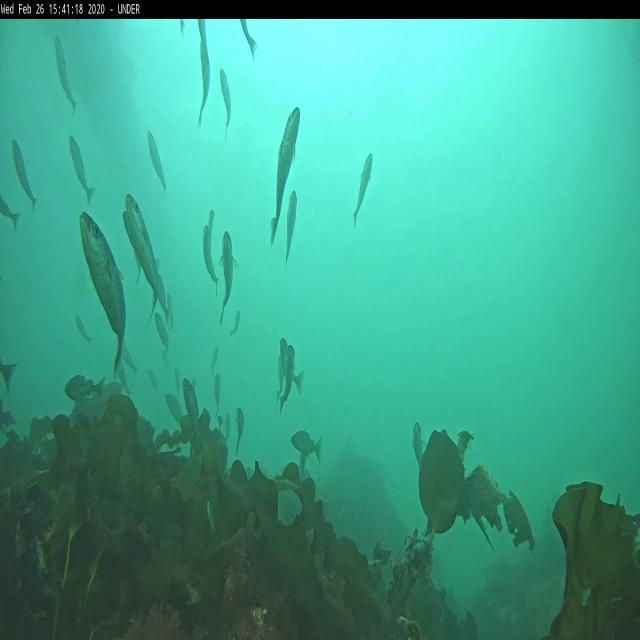fish: (81, 210, 140, 375), (120, 194, 159, 309), (269, 109, 301, 247), (218, 232, 239, 329), (69, 135, 96, 203), (353, 152, 376, 226), (13, 138, 35, 208), (56, 36, 74, 114), (147, 129, 168, 191), (292, 429, 326, 462), (281, 344, 296, 418), (218, 69, 232, 140), (65, 376, 106, 400), (287, 190, 299, 266), (197, 45, 207, 132), (0, 192, 19, 232), (275, 338, 286, 407), (184, 378, 199, 425), (242, 18, 258, 58), (209, 210, 217, 288), (152, 308, 167, 348), (73, 312, 92, 341), (412, 422, 423, 469), (169, 393, 182, 424), (212, 373, 222, 413), (120, 366, 132, 396), (202, 226, 209, 276), (236, 406, 244, 449), (125, 347, 138, 372), (210, 345, 220, 374), (158, 278, 166, 312), (232, 312, 240, 335), (149, 366, 158, 384), (173, 370, 180, 390), (171, 302, 175, 326)
